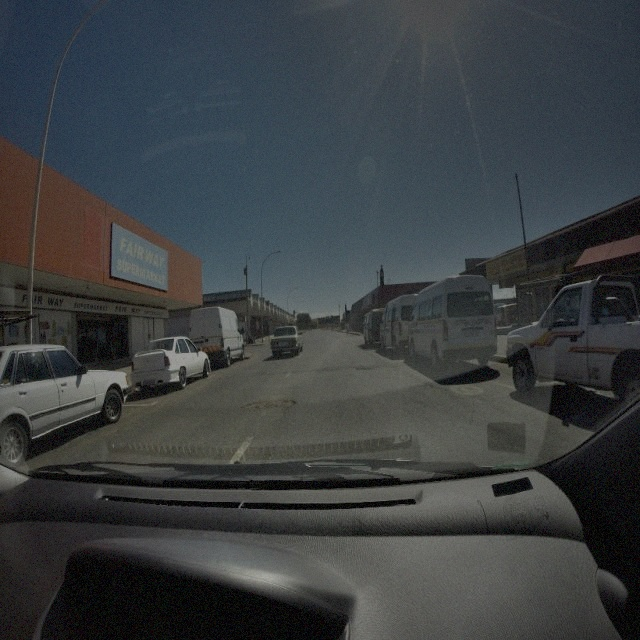pothole: (239, 396, 296, 412)
